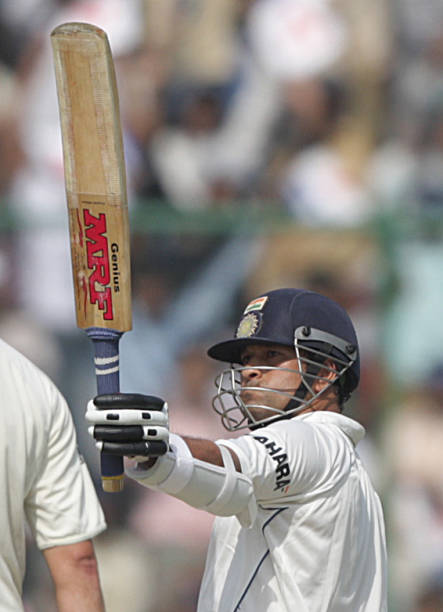bottom left: (90, 17, 128, 60)
bottom right: (28, 18, 69, 56)
top left: (114, 305, 153, 345)
top right: (61, 305, 95, 341)
